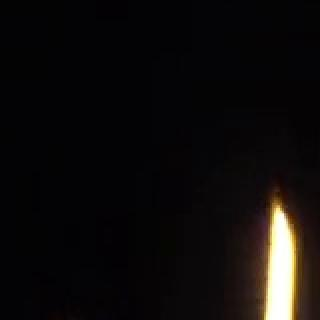fire: (253, 297, 309, 320)
